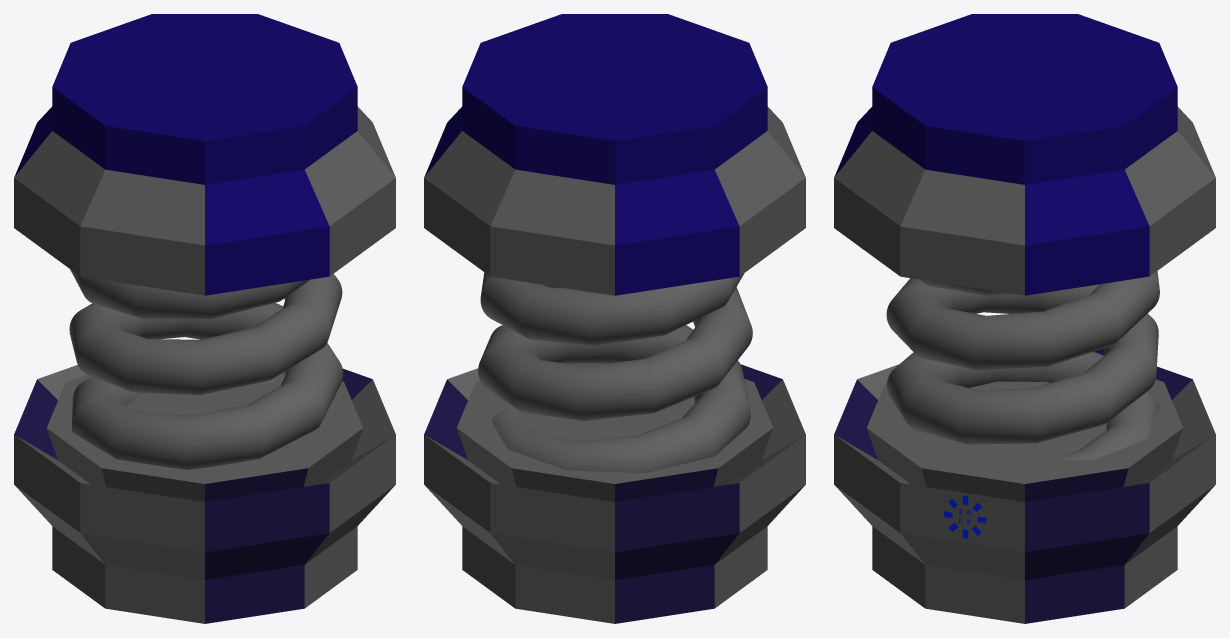
File: Spring.glb
The picture shows the model from 3 angles, left to right: view 1: azimuth 30°, elevation 25°; view 2: azimuth 150°, elevation 25°; view 3: azimuth 270°, elevation 25°; orthographic projection.
Visible parts, largest first — view 1: Cylinder; view 2: Cylinder; view 3: Cylinder.
Boxes of the visible parts, bbox=[...] form: Cylinder: bbox=[14, 14, 395, 623]; Cylinder: bbox=[424, 14, 805, 623]; Cylinder: bbox=[834, 14, 1215, 623].
Size of the model in its own units: 13.58 by 19.23 by 13.79.
Materials: 5 (2 with a texture image).
